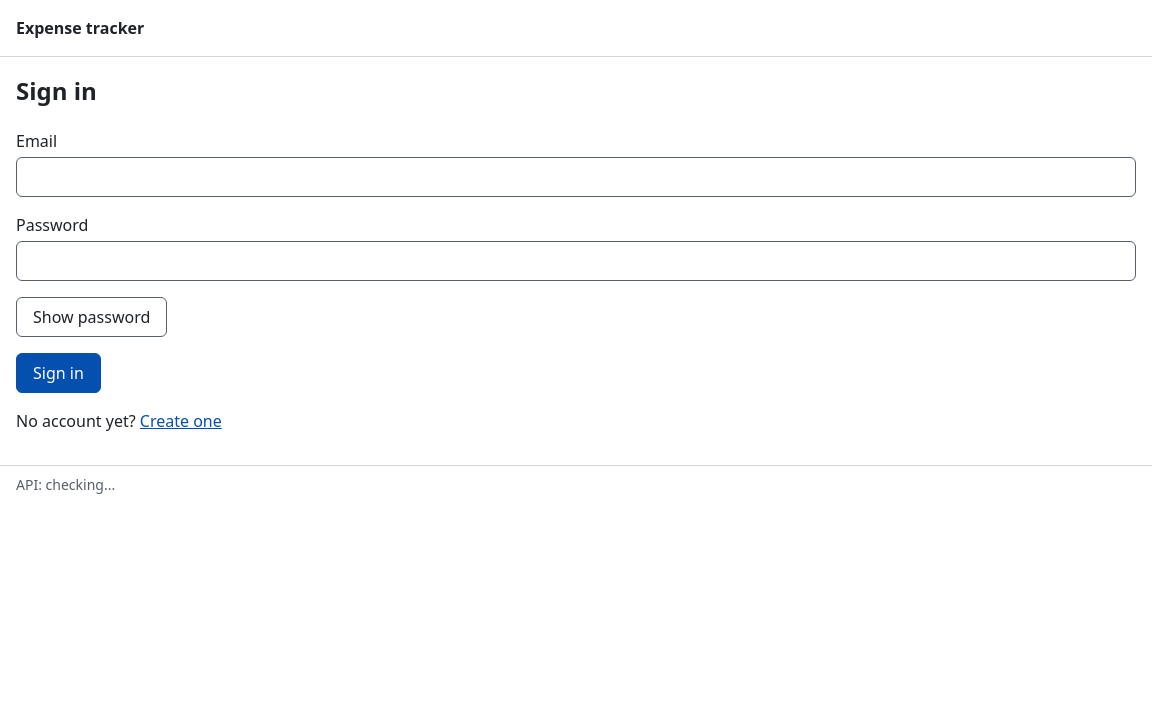
it: sign-in and register over the real client › a 401 from sign-in shows the fixed message, not the server detail
This screenshot has width=1152, height=720.
Type "a@example.com" into the field with id "login-email" at (576, 177), box x1=16 y1=157 x2=1136 y2=197
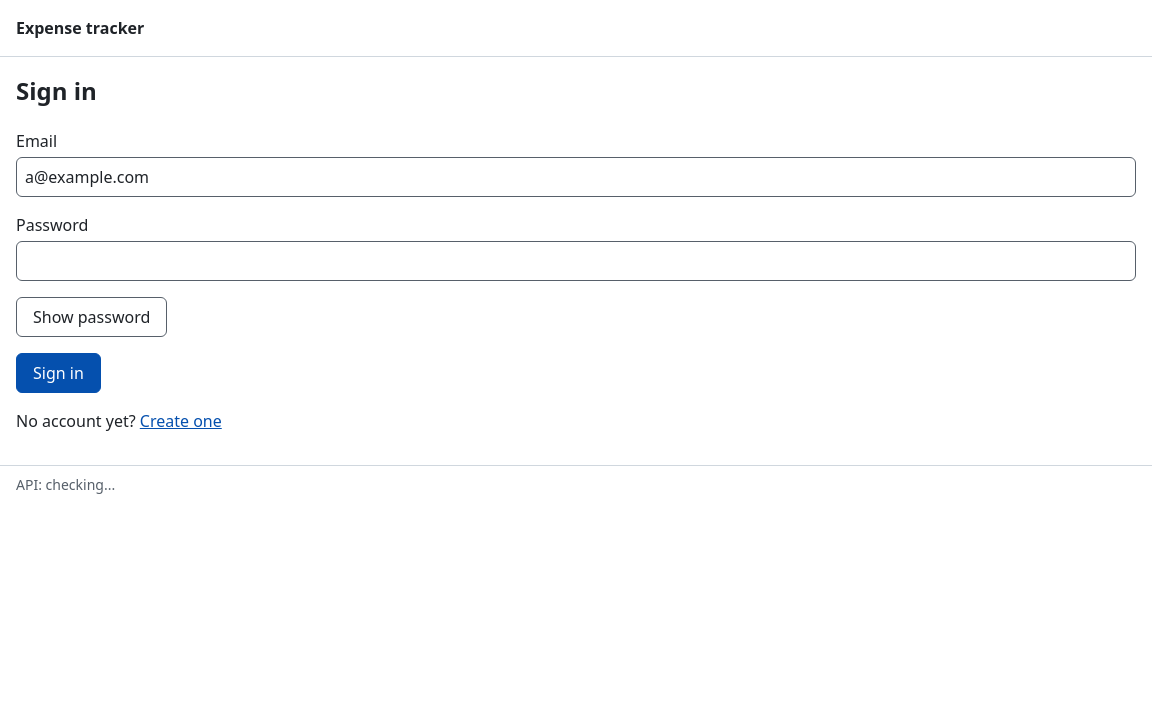
Type "whatever password" into the password field with id "login-password" at (576, 261), box x1=16 y1=241 x2=1136 y2=281
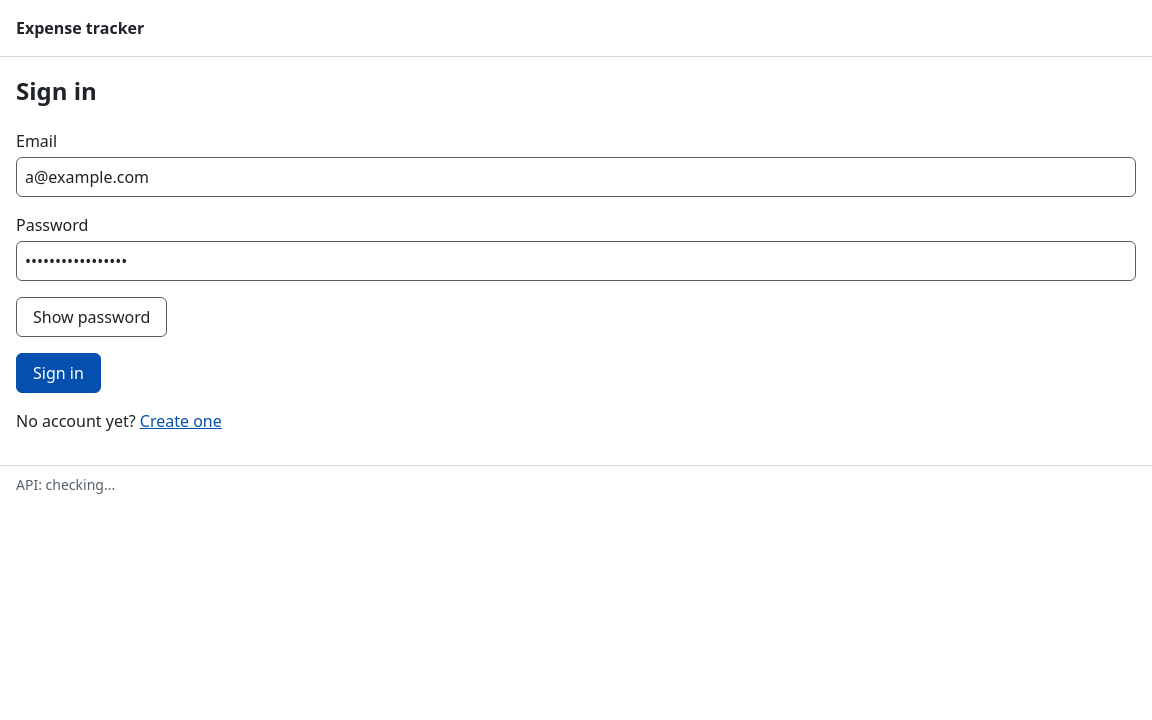
Submit the form, box x1=16 y1=129 x2=1136 y2=393
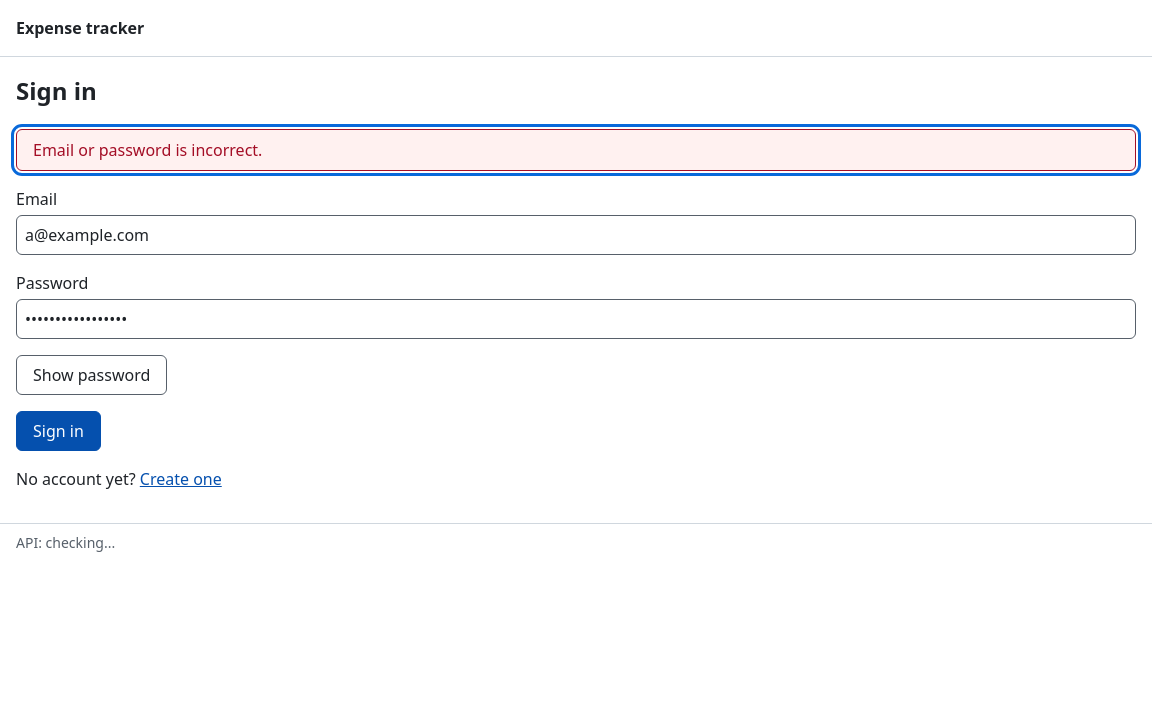
Expected: the message "Email or password is incorrect." is shown, x1=16 y1=129 x2=1136 y2=171
